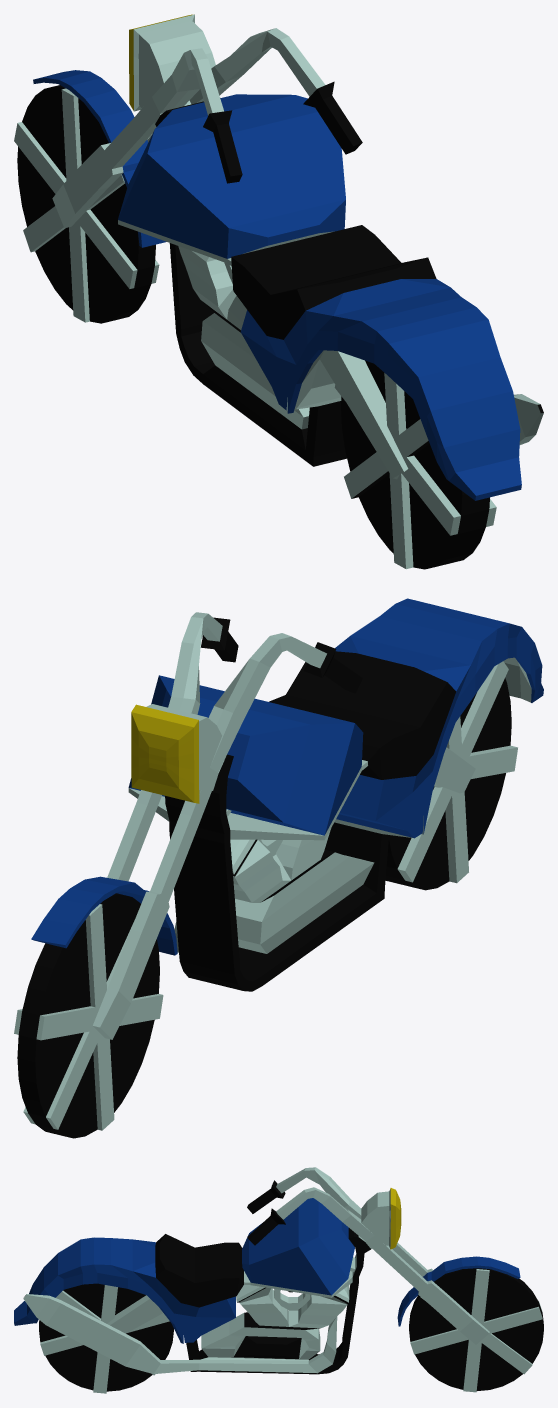
The model's file is bike1.fbx.
3 views of the same model, one above another, from view 1: azimuth 30°, elevation 25°; view 2: azimuth 150°, elevation 25°; view 3: azimuth 270°, elevation 25° (orthographic). The views are drawn at different scales.
Parts seen in each view (by area): view 1: BikeBody, FrontWheel, BackWheel; view 2: BikeBody, FrontWheel, BackWheel; view 3: BikeBody, FrontWheel, BackWheel.
Part boxes in pixels (x1=…): BikeBody: x1=33, y1=14, x2=543, y2=500; FrontWheel: x1=14, y1=85, x2=159, y2=323; BackWheel: x1=334, y1=360, x2=496, y2=569; BikeBody: x1=31, y1=598, x2=543, y2=1039; FrontWheel: x1=14, y1=893, x2=163, y2=1138; BackWheel: x1=385, y1=661, x2=517, y2=890; BikeBody: x1=14, y1=1167, x2=520, y2=1374; FrontWheel: x1=409, y1=1268, x2=543, y2=1392; BackWheel: x1=39, y1=1283, x2=173, y2=1393.
Bounding box in the file's own units: 111 × 211 × 480.
